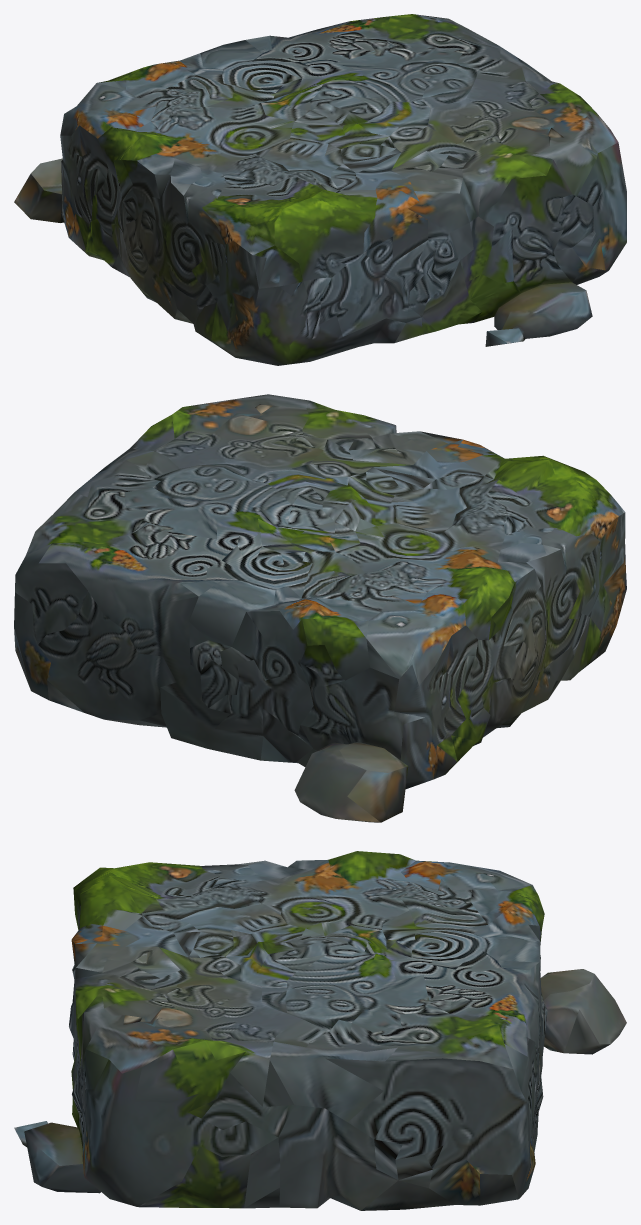
The model's file is itacoatiara.glb.
3 renders of one model, top to bottom at view 1: azimuth 30°, elevation 25°; view 2: azimuth 150°, elevation 25°; view 3: azimuth 270°, elevation 25°, orthographic. The views are drawn at different scales.
Visible parts, largest first — view 1: geometry_0; view 2: geometry_0; view 3: geometry_0.
Part boxes in pixels (x1,y1,x2,y2): geometry_0: (14, 14, 626, 365); geometry_0: (14, 394, 626, 822); geometry_0: (14, 851, 626, 1210).
Size of the model in its own units: 0.8003 by 0.3232 by 0.9584.
1 material, 1 textured.
